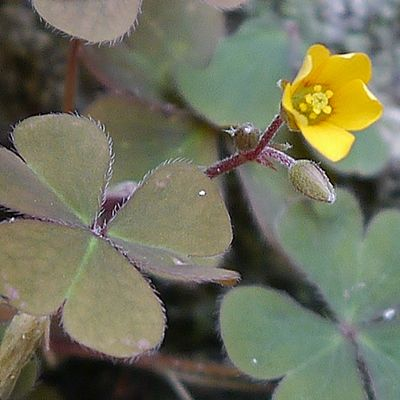oxalis: (15, 110, 205, 366), (253, 186, 398, 395)
